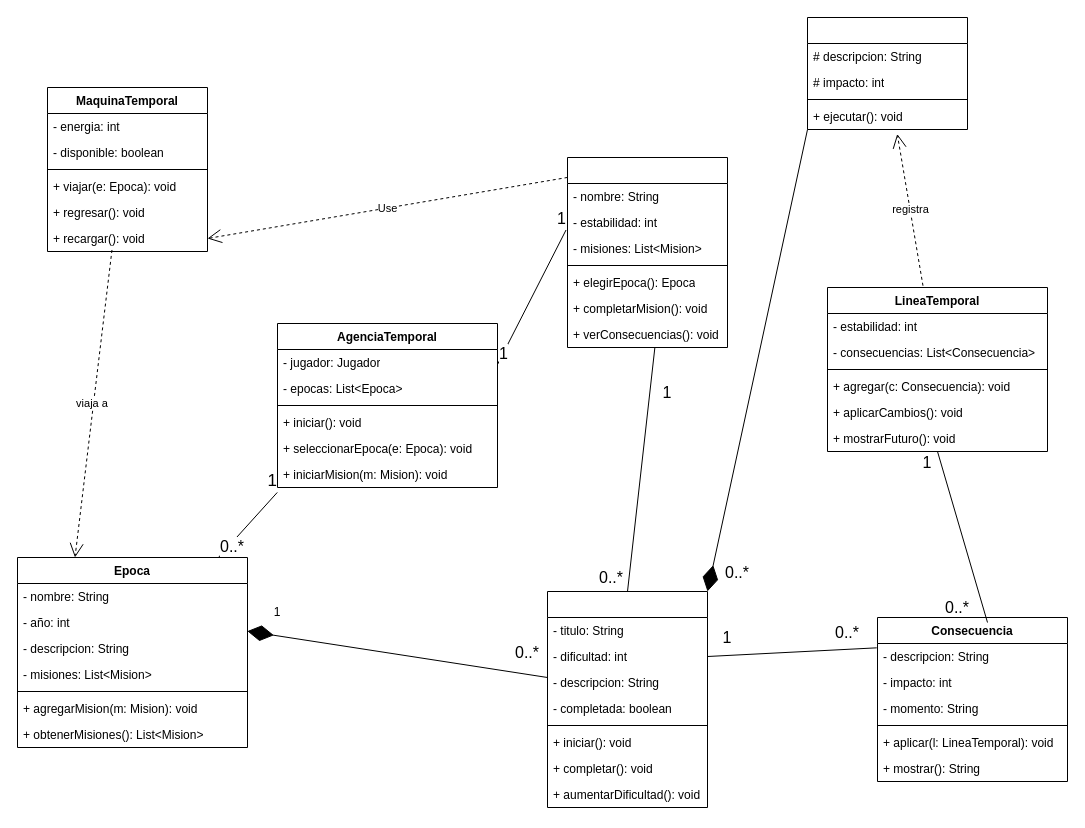
Some shapes in this 1085 by 828 pixel diagram are drawn without their labels. Here are the shapes that lost their labels. From the top down, the box of each, then its label:
(806, 16, 968, 130): Evento
(566, 156, 728, 348): Jugador
(546, 590, 708, 808): Mision
